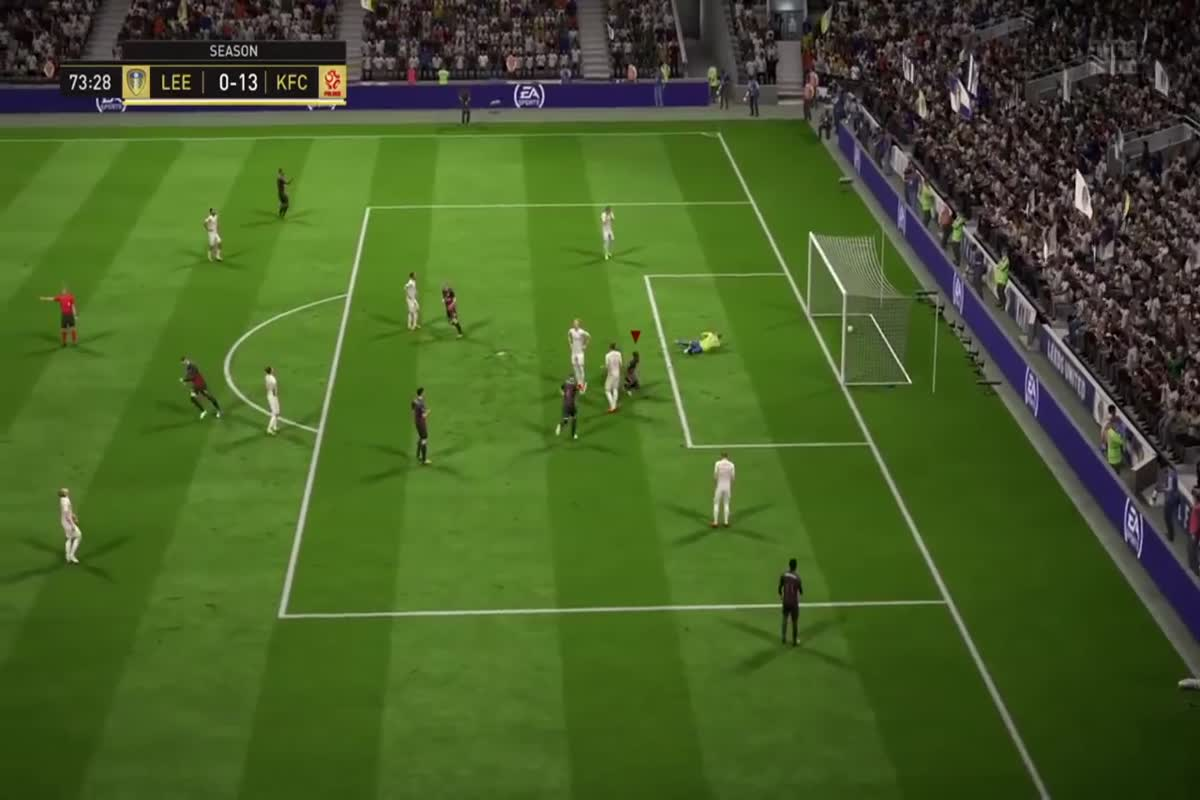ball: (846, 320, 859, 335)
